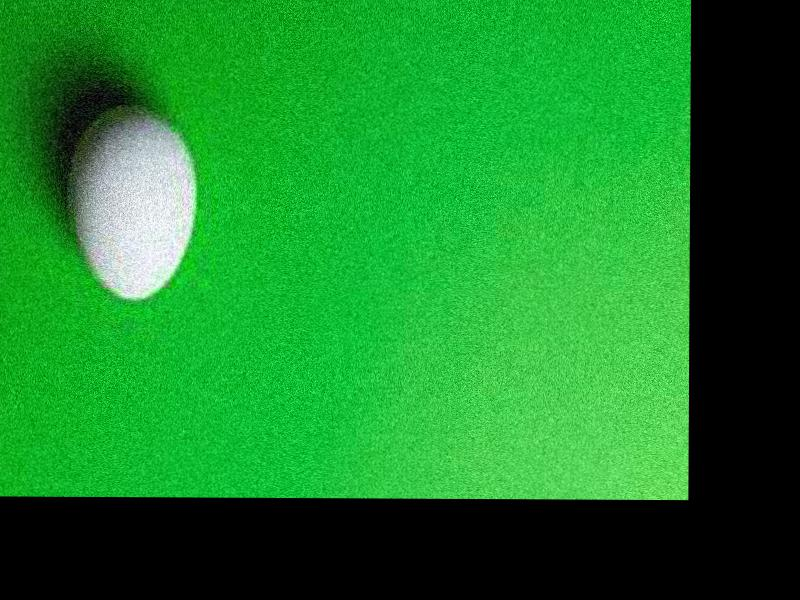Eggs: (68, 104, 194, 301)
